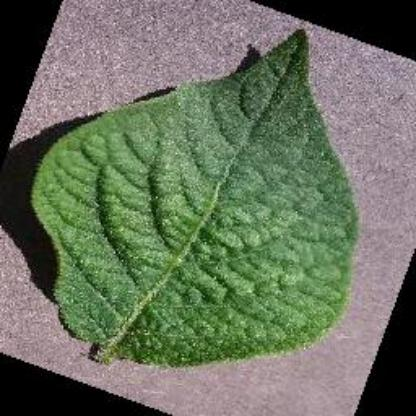Healthy-plant: (10, 21, 382, 399)
